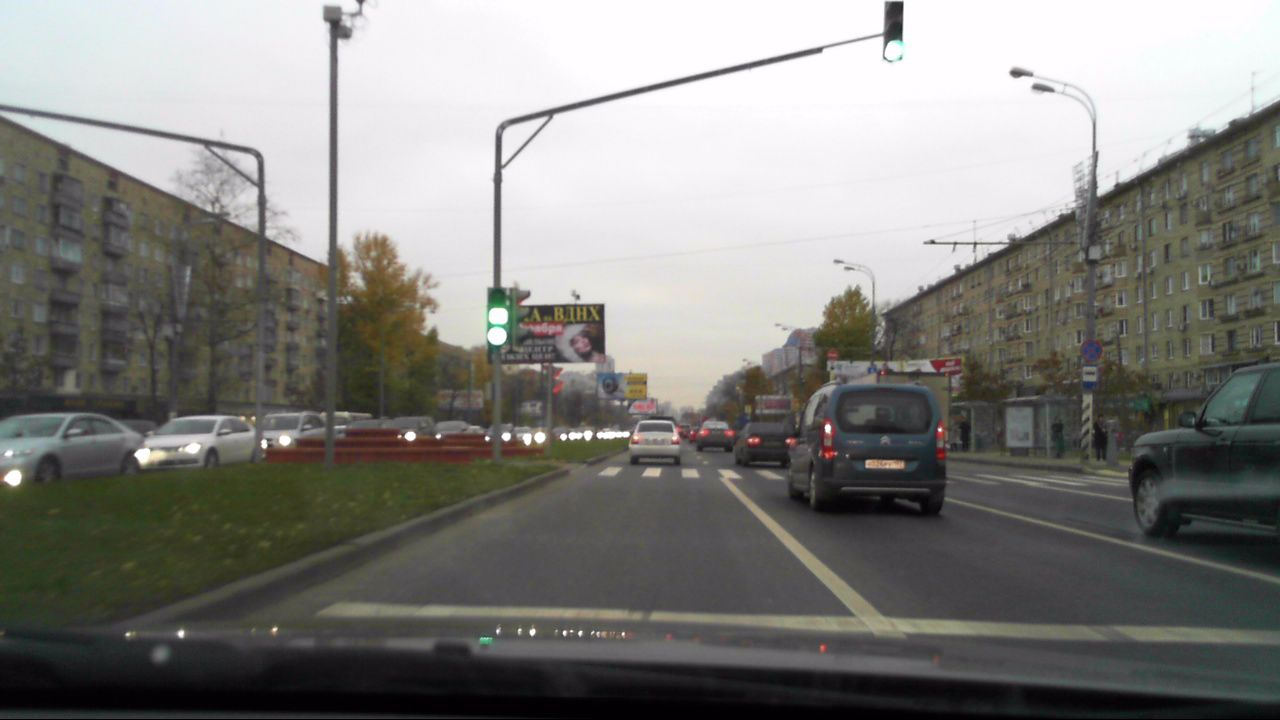No Parking: (1079, 339, 1102, 362)
